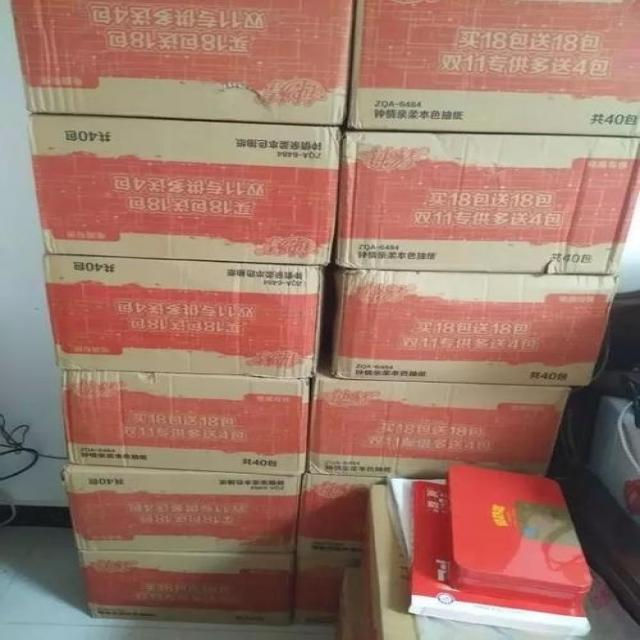box: (26, 114, 343, 265), (6, 0, 356, 126), (335, 130, 640, 273), (348, 0, 640, 137), (44, 256, 323, 379), (334, 270, 621, 386), (63, 370, 314, 475), (310, 378, 570, 477), (60, 468, 303, 555), (453, 462, 595, 607), (77, 553, 296, 626), (365, 486, 414, 640), (297, 472, 367, 563), (289, 560, 347, 628)
